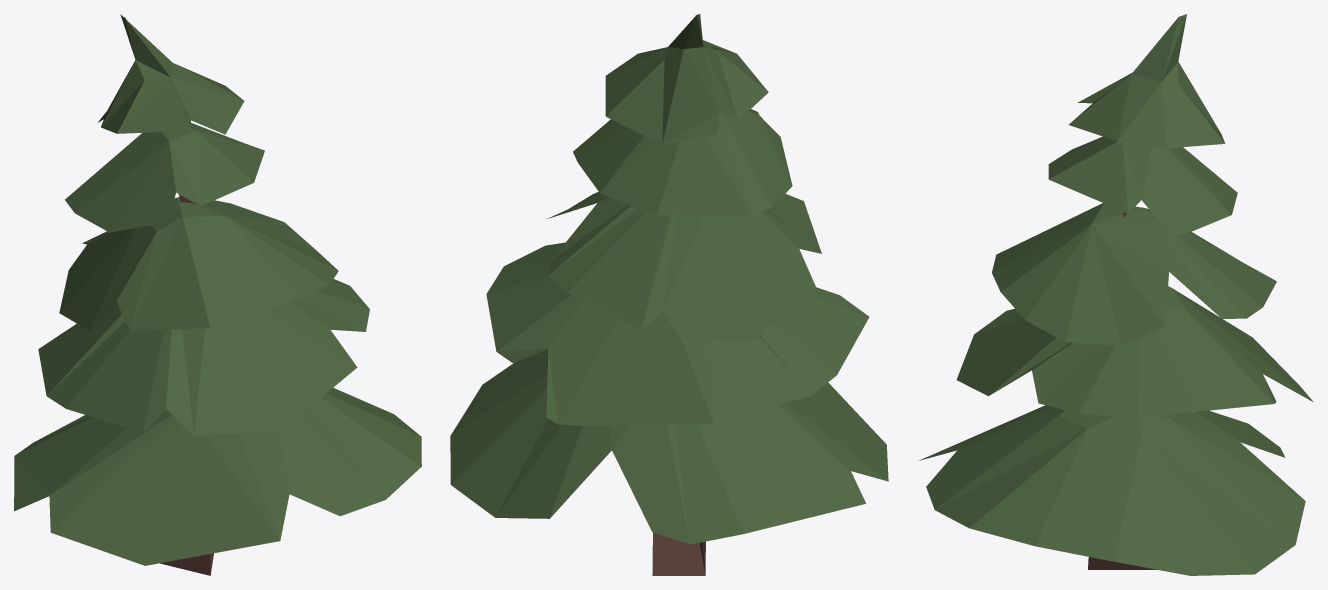
File: PineTree_1_lod.glb
The picture shows the model from 3 angles, left to right: view 1: azimuth 30°, elevation 25°; view 2: azimuth 150°, elevation 25°; view 3: azimuth 270°, elevation 25°; orthographic projection. The views are drawn at different scales.
Parts seen in each view (by area): view 1: PineTree_1; view 2: PineTree_1; view 3: PineTree_1.
Boxes of the visible parts, x1,y1,x2,y2 form: PineTree_1: [14, 14, 421, 575]; PineTree_1: [450, 14, 888, 575]; PineTree_1: [918, 14, 1313, 575].
Bounding box in the file's own units: 1.95 × 2.69 × 1.8.
